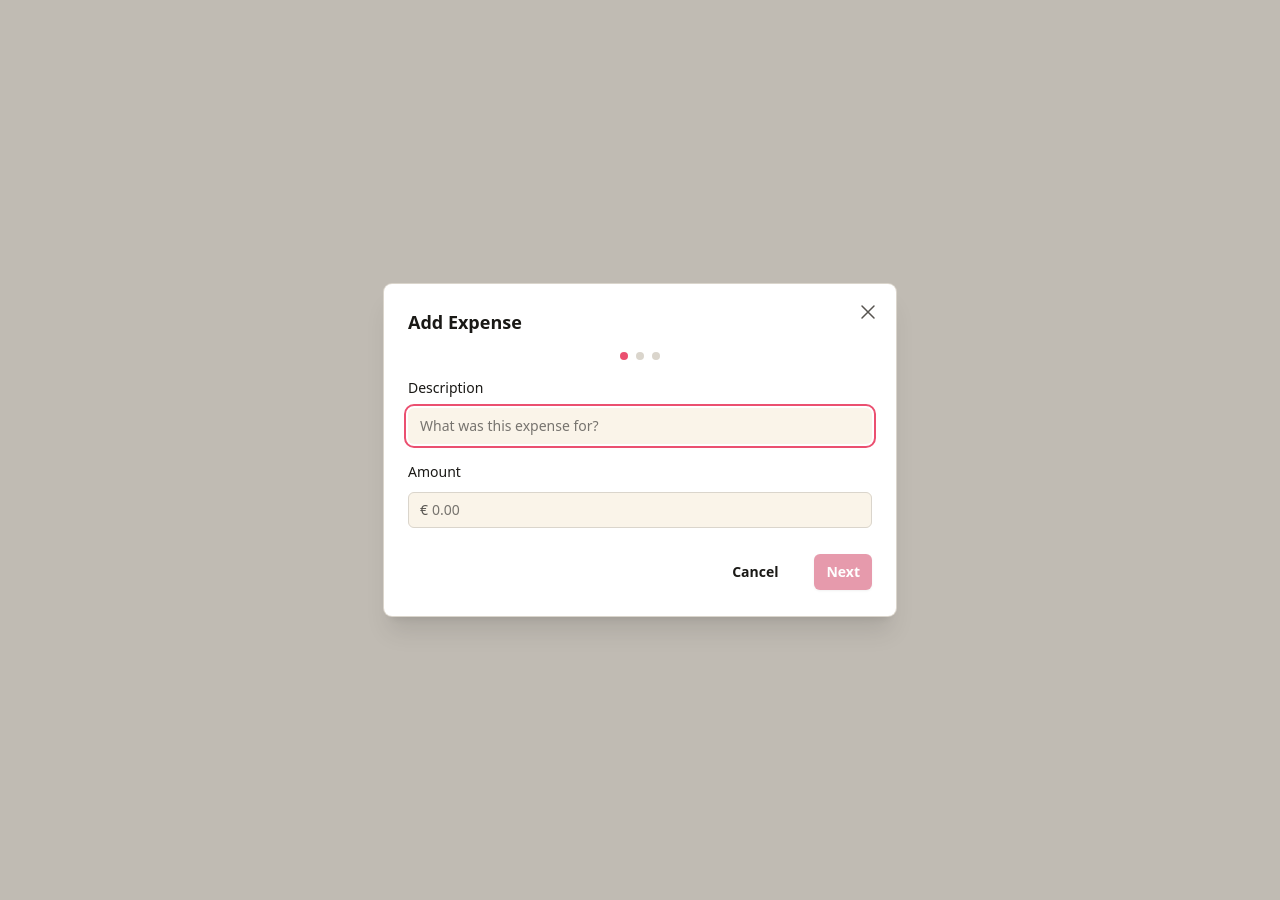
Test case: AddExpenseModal wizard › navigates back to step 1 from step 2
The width and height of the screenshot is (1280, 900).
Type "Test" into the field with test id "expense-description-input" at (640, 426), box [408,408,872,444]
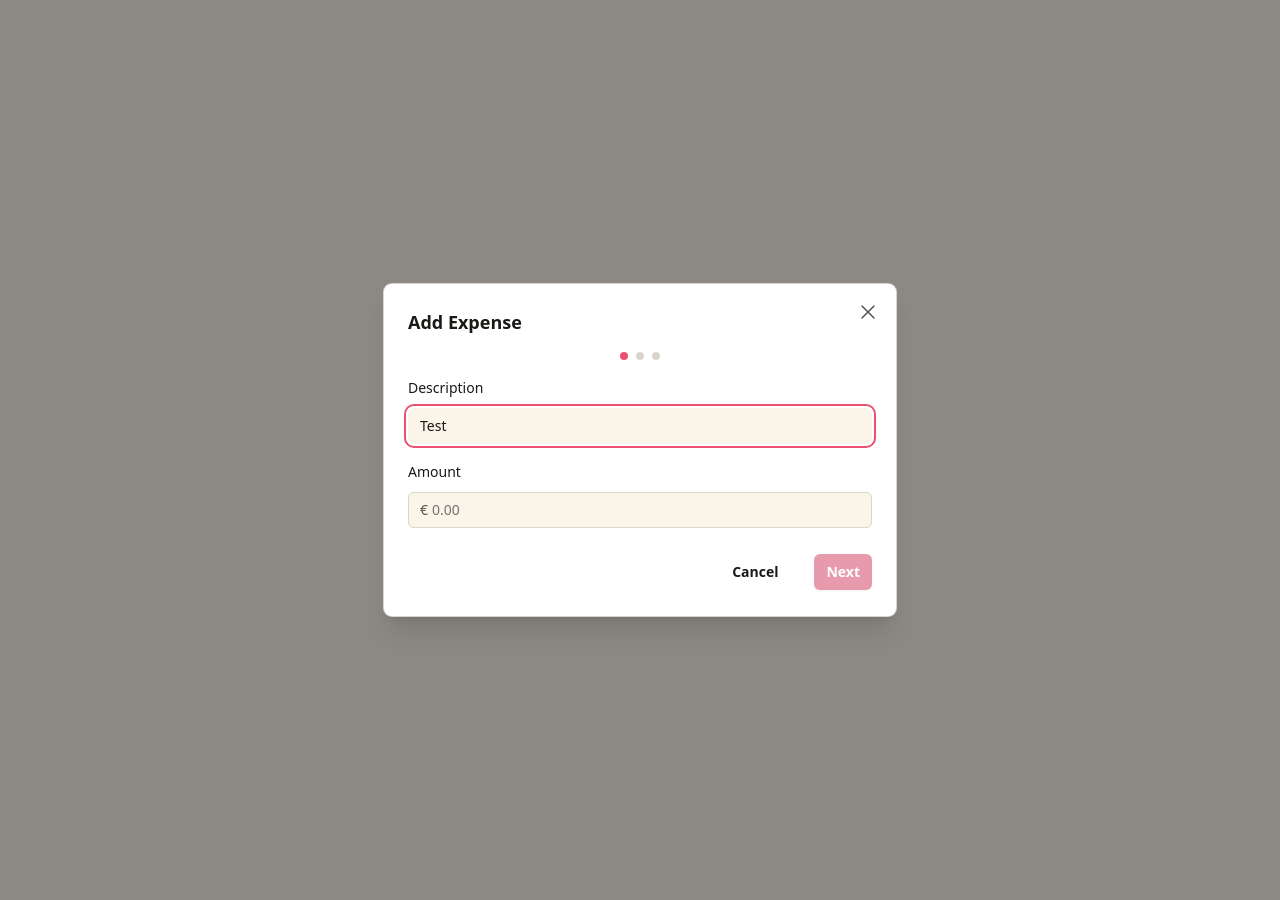
Type "10" into the field with test id "expense-amount-input" at (650, 510), box [428,492,872,528]
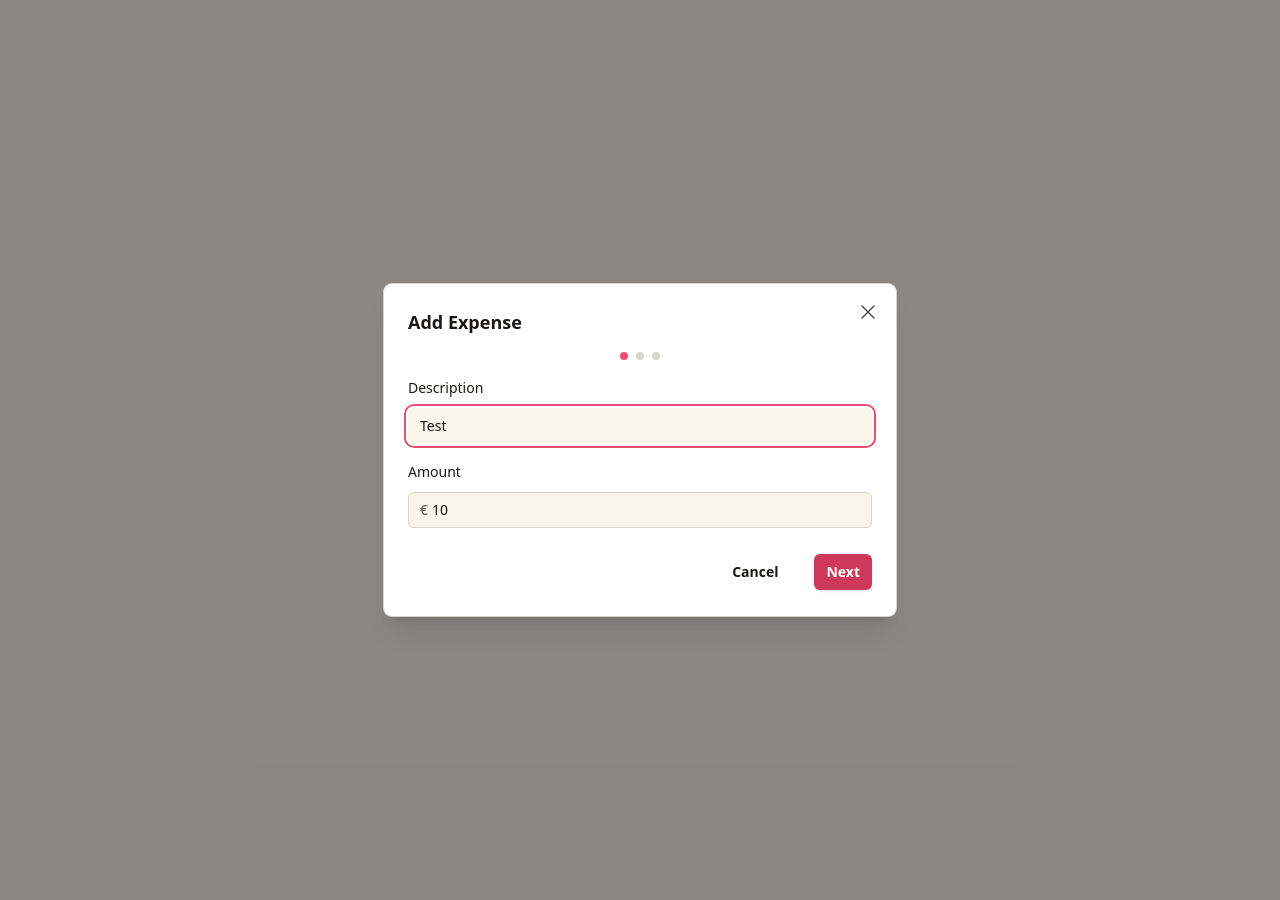
Submit the form, box [408,352,872,592]
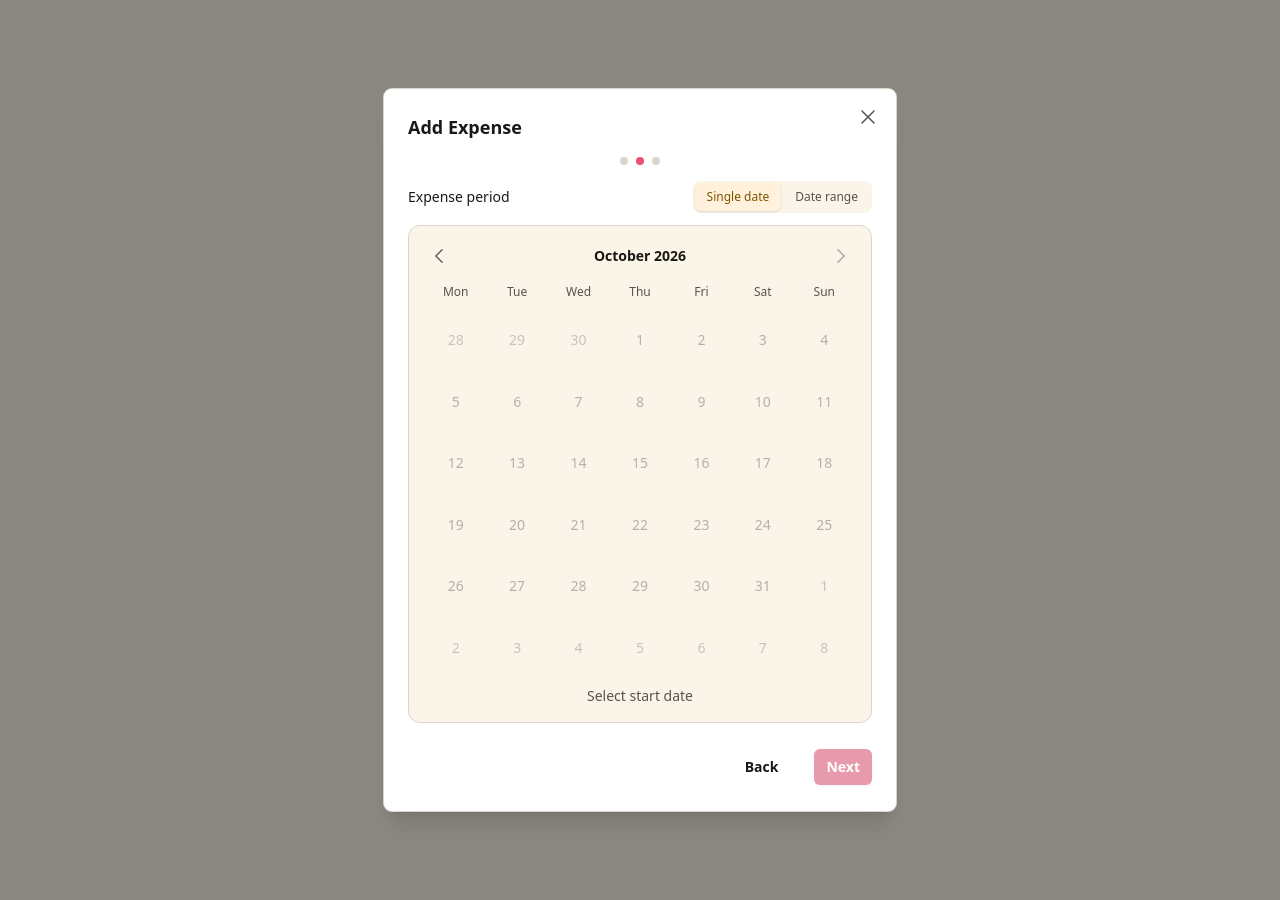
Click the button "Back" at (762, 767), box [733,747,790,787]
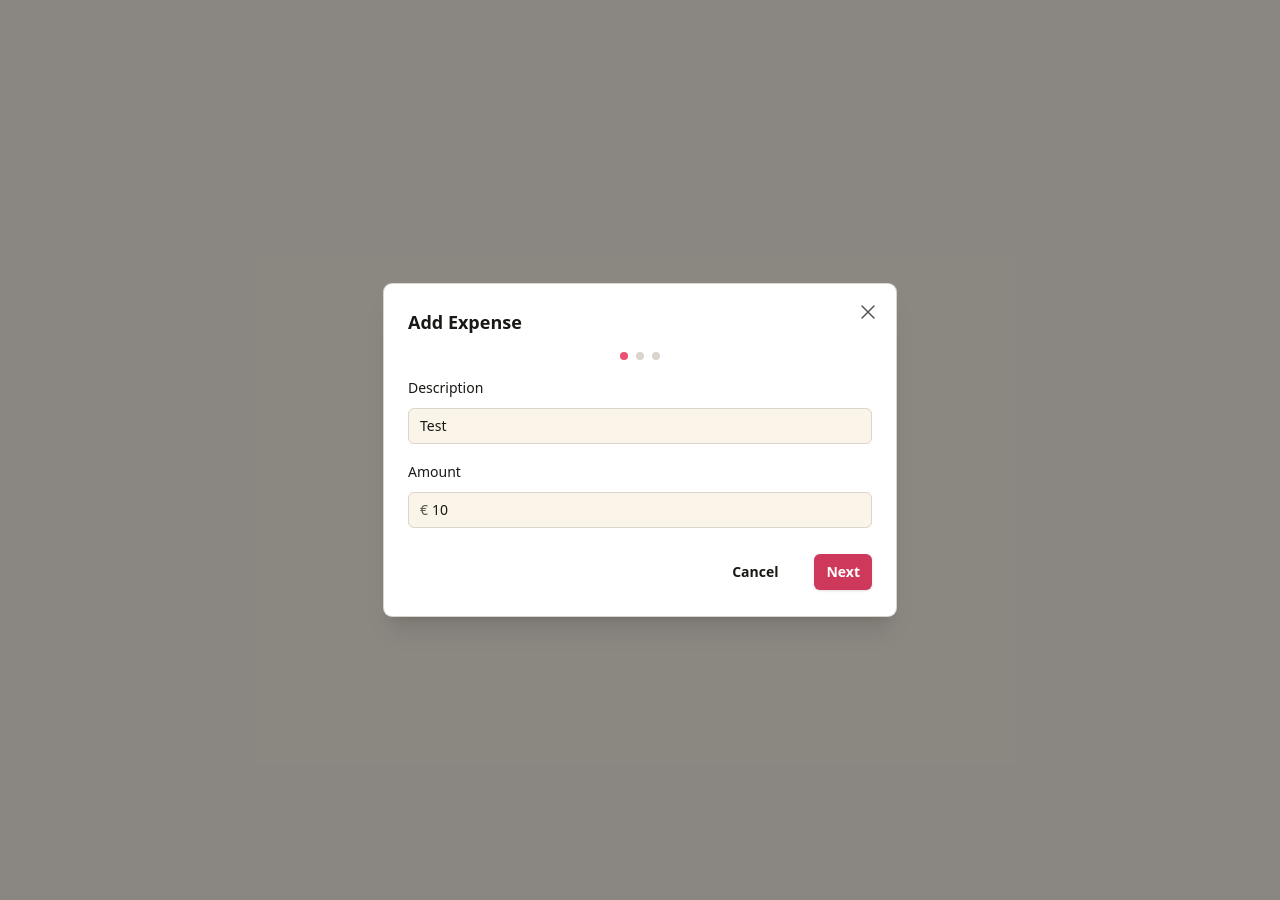
Result: the field with test id "expense-description-input" is shown at [408,408,872,444]
